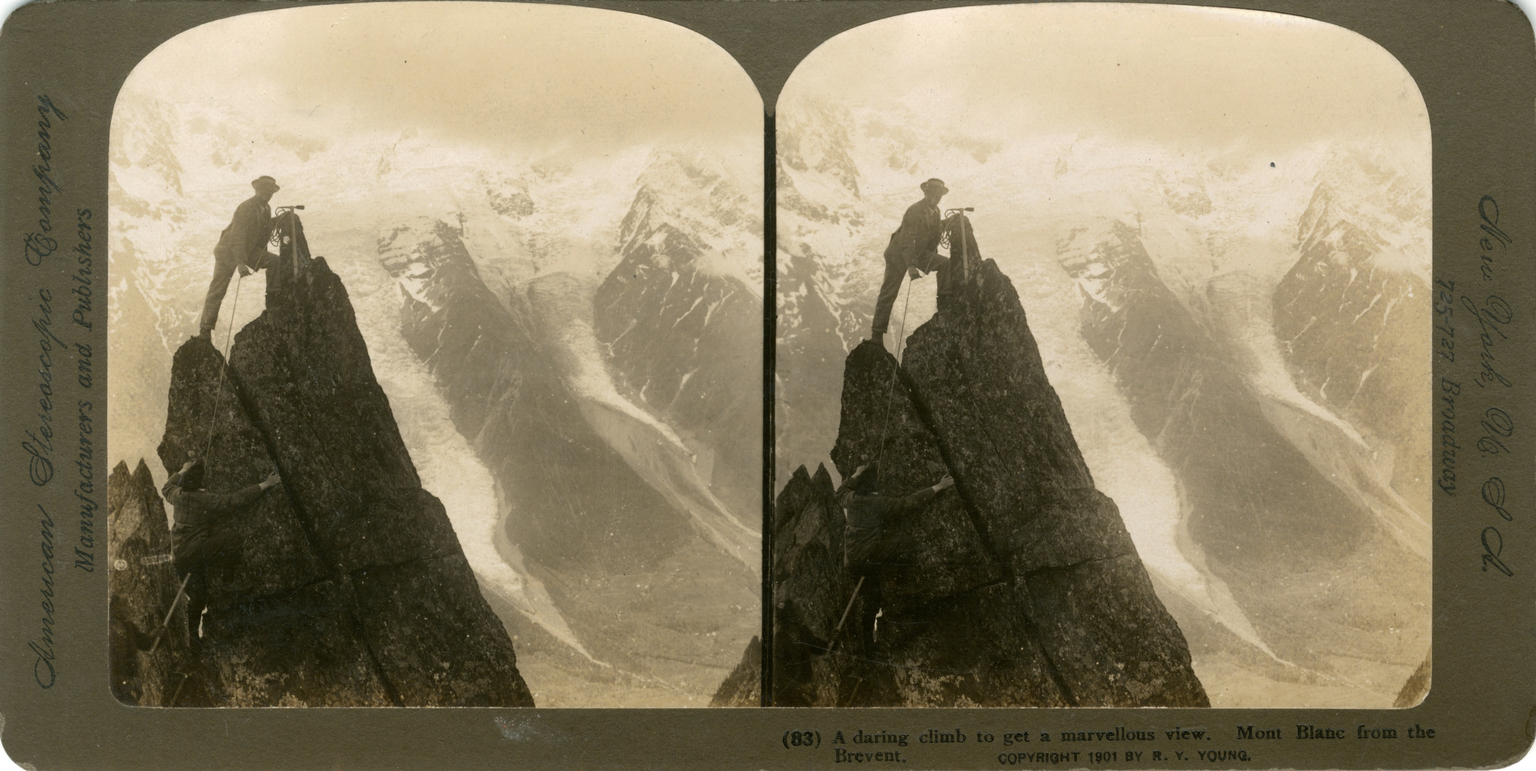half_image: (775, 3, 1433, 711), (109, 2, 765, 710)
